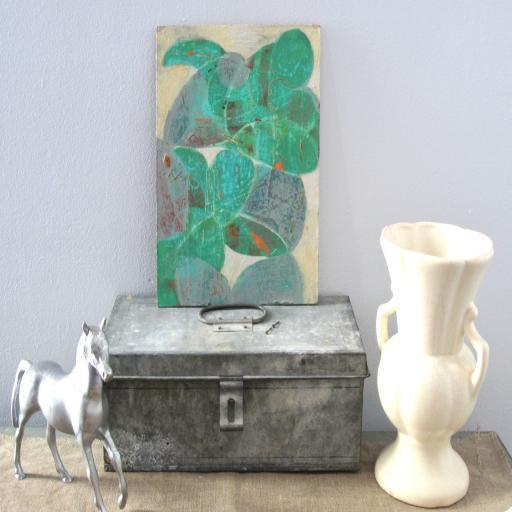horse: (13, 315, 128, 512)
